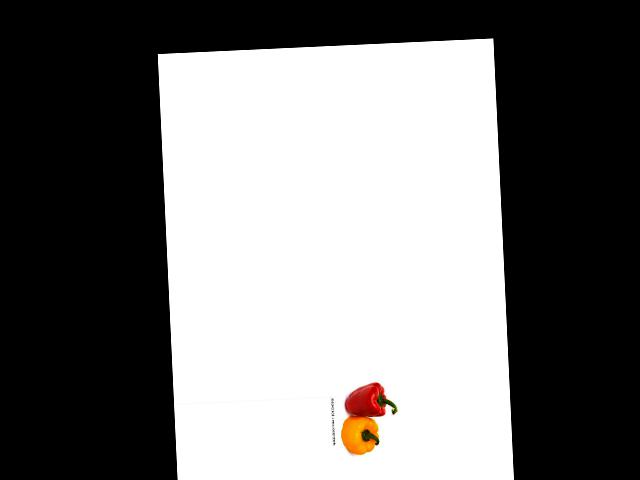bell_pepper: (337, 413, 383, 457)
